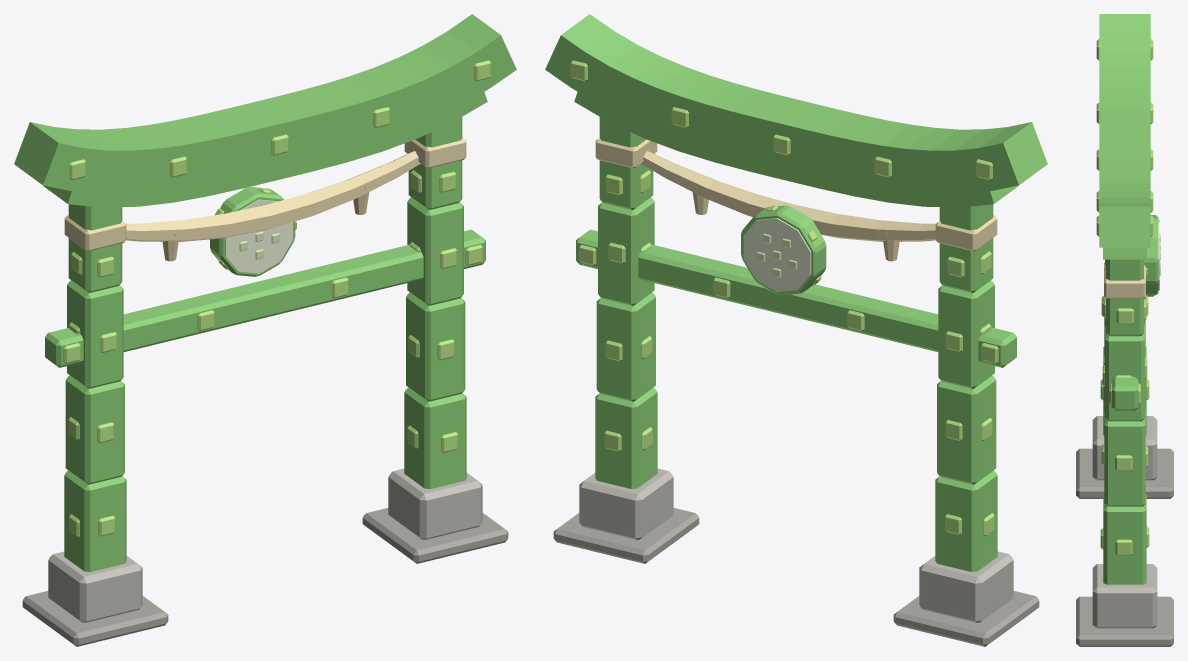
The model's file is SamuraiToriiGate.fbx.
3 renders of one model, left to right at view 1: azimuth 30°, elevation 25°; view 2: azimuth 150°, elevation 25°; view 3: azimuth 270°, elevation 25°, orthographic. The views are drawn at different scales.
Visible parts, largest first — view 1: SamuraiToriiGate.Gate, SamuraiToriiGate.Plinths, SamuraiToriiGate.Rope, SamuraiToriiGate.Footings, SamuraiToriiGate.Studs, SamuraiToriiGate.SliceFace; view 2: SamuraiToriiGate.Gate, SamuraiToriiGate.Plinths, SamuraiToriiGate.Rope, SamuraiToriiGate.Footings, SamuraiToriiGate.Studs, SamuraiToriiGate.SliceFace; view 3: SamuraiToriiGate.Gate, SamuraiToriiGate.Footings, SamuraiToriiGate.Plinths, SamuraiToriiGate.Studs, SamuraiToriiGate.Rope.
Boxes of the visible parts, <box> form: SamuraiToriiGate.Gate: <box>14,14,516,571</box>; SamuraiToriiGate.Plinths: <box>48,468,482,622</box>; SamuraiToriiGate.Rope: <box>64,138,466,261</box>; SamuraiToriiGate.Footings: <box>22,508,508,646</box>; SamuraiToriiGate.Studs: <box>63,60,491,537</box>; SamuraiToriiGate.SliceFace: <box>225,199,292,273</box>; SamuraiToriiGate.Gate: <box>545,14,1047,571</box>; SamuraiToriiGate.Plinths: <box>579,468,1013,622</box>; SamuraiToriiGate.Rope: <box>595,138,997,261</box>; SamuraiToriiGate.Footings: <box>553,508,1039,646</box>; SamuraiToriiGate.Studs: <box>570,60,998,535</box>; SamuraiToriiGate.SliceFace: <box>743,218,811,292</box>; SamuraiToriiGate.Gate: <box>1099,14,1158,584</box>; SamuraiToriiGate.Footings: <box>1076,448,1173,646</box>; SamuraiToriiGate.Plinths: <box>1092,416,1157,628</box>; SamuraiToriiGate.Studs: <box>1096,39,1154,555</box>; SamuraiToriiGate.Rope: <box>1104,265,1145,298</box>.
Size of the model in its own units: 9.48 by 9.51 by 1.9.
